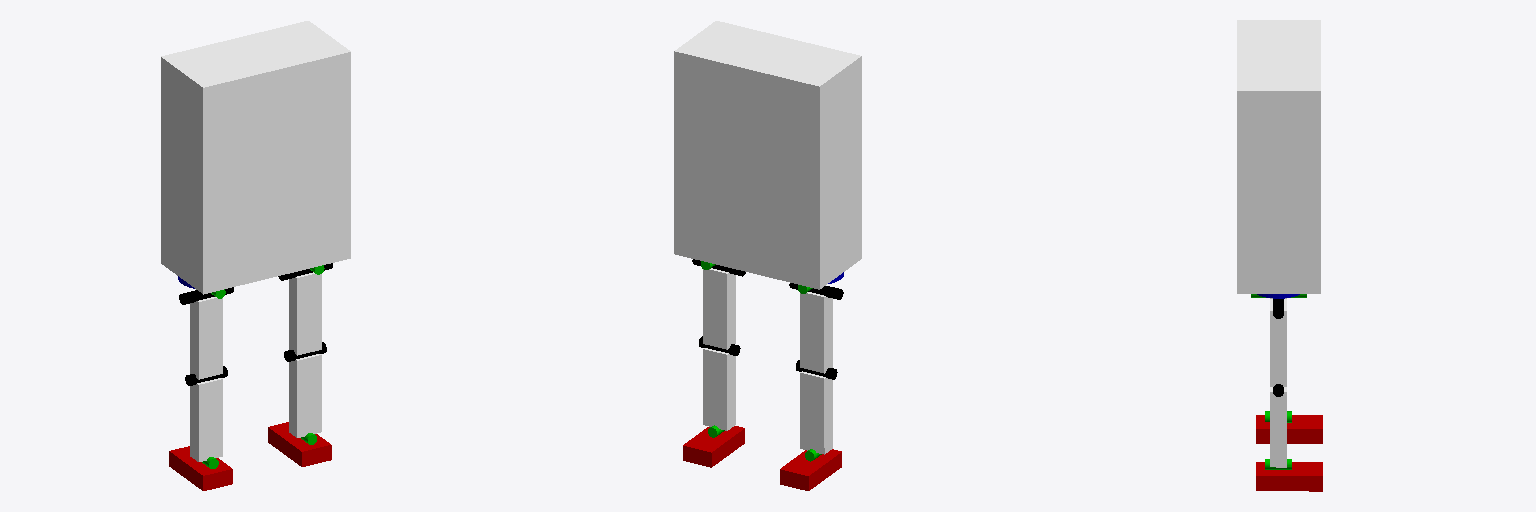
URDF robot description (Custom_Upper_Body):
<?xml version="1.0" encoding="utf-8"?>
<robot name="Custom_Upper_Body">


	  <material name="blue">
	    	<color rgba="0 0 0.8 1"/>
	  </material>
	  <material name="black">
	    	<color rgba="0 0 0 1"/>
	  </material>
	  <material name="white">
	    	<color rgba="1 1 1 1"/>
	  </material>
  	<material name="red">
    		<color rgba="0.8 0 0 1"/>
  	</material>
  	<material name="green">
    		<color rgba="0 0.8 0 1"/>
  	</material>
  	
  	
	<link name="base">
		<mass value="0.3"/>
		<inertial>
			<origin xyz="0 0 0" rpy="0 0 0"></origin>
			<mass value="0.3"></mass>
			<inertia ixx="0.000444379589701896" ixy="0" ixz="0" iyy="0.00048561348802354" iyz="0" izz="0.000421911604661064"></inertia>
		</inertial>
		<visual>
			<origin xyz="0 0 0" rpy="0 0 0"></origin>
			<geometry>
				<box size="0.3 0.15 0.4"/>
			</geometry>
			<material name="white"/>
		</visual>
		<collision>
			<origin xyz="0 0 0" rpy="0 0 0"></origin>
			<geometry>
				<box size="0.3 0.15 0.4"/>
			</geometry>
		</collision>
	</link>
	
	<joint name="z_base_to_r_hip_yaw" type="revolute">
	    <parent link="base"/>
	    <child link="r_hip_yaw"/>
	    <origin xyz="0.1 0. -0.205" rpy="0 0 0"/>
	    <axis xyz="0 0 -1"></axis>
	    <limit effort="3.1" lower="-1.57" upper="1.57" velocity="7.0"></limit>
  	</joint>
	
	<link name="r_hip_yaw">
		<inertial>
			<origin xyz="0 0 0" rpy="0 0 0"></origin>
			<mass value="0.1"></mass>
			<inertia ixx="0.000444379589701896" ixy="0" ixz="0" iyy="0.00048561348802354" iyz="0" izz="0.000421911604661064"></inertia>
		</inertial>
		<visual>
			<origin xyz="0 0 0" rpy="0 0 0"></origin>
			<geometry>
				<cylinder length="0.01" radius="0.05"/>
			</geometry>
			<material name="blue"/>
		</visual>
		<collision>
			<origin xyz="0 0 0" rpy="0 0 0"></origin>
			<geometry>
				<cylinder length="0.1" radius="0.01"/>
			</geometry>
		</collision>
	</link> 
	
	<joint name="r_hip_yaw_to_pitch" type="revolute">
	    <parent link="r_hip_yaw"/>
	    <child link="r_hip_pitch"/>
	    <origin xyz="0. 0. -0.015" rpy="1.57 0 0"/>
	    <axis xyz="0 0 1"></axis>
	    <limit effort="3.1" lower="-1.57" upper="1.57" velocity="7.0"></limit>
  	</joint>
	
	<link name="r_hip_pitch">
		<inertial>
			<origin xyz="0 0 0" rpy="0 0 0"></origin>
			<mass value="0.1"></mass>
			<inertia ixx="0.000444379589701896" ixy="0" ixz="0" iyy="0.00048561348802354" iyz="0" izz="0.000421911604661064"></inertia>
		</inertial>
		<visual>
			<origin xyz="0 0 0" rpy="0 0 0"></origin>
			<geometry>
				<cylinder length="0.1" radius="0.01"/>
			</geometry>
			<material name="green"/>
		</visual>
		<collision>
			<origin xyz="0 0 0" rpy="0 0 0"></origin>
			<geometry>
				<cylinder length="0.1" radius="0.01"/>
			</geometry>
		</collision>
	</link>
	
	<joint name="r_hip_pitch_to_roll" type="revolute">
	    <parent link="r_hip_pitch"/>
	    <child link="r_hip_roll"/>
	    <origin xyz="0. -0.02 0." rpy="0 1.57 0"/>
	    <axis xyz="0 0 1"></axis>
	    <limit effort="3.1" lower="-1.57" upper="1.57" velocity="7.0"></limit>
  	</joint>
	
	<link name="r_hip_roll">
		<inertial>
			<origin xyz="0 0 0" rpy="0 0 0"></origin>
			<mass value="0.1"></mass>
			<inertia ixx="0.000444379589701896" ixy="0" ixz="0" iyy="0.00048561348802354" iyz="0" izz="0.000421911604661064"></inertia>
		</inertial>
		<visual>
			<origin xyz="0 0 0" rpy="0 0 0"></origin>
			<geometry>
				<cylinder length="0.1" radius="0.01"/>
			</geometry>
			<material name="black"/>
		</visual>
		<collision>
			<origin xyz="0 0 0" rpy="0 0 0"></origin>
			<geometry>
				<cylinder length="0.1" radius="0.01"/>
			</geometry>
		</collision>
	</link>
	
	<joint name="r_hip_roll_to_upper_leg" type="fixed">
	    <parent link="r_hip_roll"/>
	    <child link="r_upper_leg"/>
	    <origin xyz="0 -0.08 0" rpy="0 0 0"/>
	    <axis xyz="0 0 1"></axis>
  	</joint>
	
	<link name="r_upper_leg">
		<inertial>
			<origin xyz="0 0 0" rpy="0 0 0"></origin>
			<mass value="0.1"></mass>
			<inertia ixx="0.000444379589701896" ixy="0" ixz="0" iyy="0.00048561348802354" iyz="0" izz="0.000421911604661064"></inertia>
		</inertial>
		<visual>
			<origin xyz="0 0 0" rpy="0 0 0"></origin>
			<geometry>
				<box size="0.03 0.15 0.05"/>
			</geometry>
			<material name="white"/>
		</visual>
		<collision>
			<origin xyz="0 0 0" rpy="0 0 0"></origin>
			<geometry>
				<box size="0.03 0.1 0.05"/>
			</geometry>
		</collision>
	</link>
	
	
	<joint name="r_upper_leg_to_knee" type="revolute">
	    <parent link="r_upper_leg"/>
	    <child link="r_knee"/>
	    <origin xyz="0 -0.08 0" rpy="0 0 0"/>
	    <axis xyz="0 0 -1"></axis>
	    <limit effort="3.1" lower="-.57" upper="1.57" velocity="7.0"></limit>
  	</joint>
	
	<link name="r_knee">
		<inertial>
			<origin xyz="0 0 0" rpy="0 0 0"></origin>
			<mass value="0.1"></mass>
			<inertia ixx="0.000444379589701896" ixy="0" ixz="0" iyy="0.00048561348802354" iyz="0" izz="0.000421911604661064"></inertia>
		</inertial>
		<visual>
			<origin xyz="0 0 0" rpy="0 0 0"></origin>
			<geometry>
				<cylinder length="0.075" radius="0.01"/>
			</geometry>
			<material name="black"/>
		</visual>
		<collision>
			<origin xyz="0 0 0" rpy="0 0 0"></origin>
			<geometry>
				<cylinder length="0.075" radius="0.01"/>
			</geometry>
		</collision>
	</link>
	
	<joint name="r_knee_to_lower_leg" type="fixed">
	    <parent link="r_knee"/>
	    <child link="r_lower_leg"/>
	    <origin xyz="0 -0.08 0" rpy="0 0 0"/>
	    <axis xyz="0 0 1"></axis>
  	</joint>
	
	<link name="r_lower_leg">
		<inertial>
			<origin xyz="0 0 0" rpy="0 0 0"></origin>
			<mass value="0.1"></mass>
			<inertia ixx="0.000444379589701896" ixy="0" ixz="0" iyy="0.00048561348802354" iyz="0" izz="0.000421911604661064"></inertia>
		</inertial>
		<visual>
			<origin xyz="0 0 0" rpy="0 0 0"></origin>
			<geometry>
				<box size="0.03 0.15 0.05"/>
			</geometry>
			<material name="white"/>
		</visual>
		<collision>
			<origin xyz="0 0 0" rpy="0 0 0"></origin>
			<geometry>
				<box size="0.03 0.1 0.05"/>
			</geometry>
		</collision>
	</link>
	
	<joint name="r_lower_leg_to_ankle" type="revolute">
	    <parent link="r_lower_leg"/>
	    <child link="r_ankle"/>
	    <origin xyz="0 -0.08 0" rpy="0 1.57 0"/>
	    <axis xyz="0 0 -1"></axis>
	    <limit effort="3.1" lower="-.57" upper="1.57" velocity="7.0"></limit>
  	</joint>
	
	<link name="r_ankle">
		<inertial>
			<origin xyz="0 0 0" rpy="0 0 0"></origin>
			<mass value="0.1"></mass>
			<inertia ixx="0.000444379589701896" ixy="0" ixz="0" iyy="0.00048561348802354" iyz="0" izz="0.000421911604661064"></inertia>
		</inertial>
		<visual>
			<origin xyz="0 0 0" rpy="0 0 0"></origin>
			<geometry>
				<cylinder length="0.05" radius="0.01"/>
			</geometry>
			<material name="green"/>
		</visual>
		<collision>
			<origin xyz="0 0 0" rpy="0 0 0"></origin>
			<geometry>
				<cylinder length="0.05" radius="0.01"/>
			</geometry>
		</collision>
	</link>
	
	
	<joint name="r_ankle_to_foot" type="fixed">
	    <parent link="r_ankle"/>
	    <child link="r_foot"/>
	    <origin xyz="0 -0.025 0.02" rpy="0 0 0"/>
	    <axis xyz="0 0 1"></axis>
  	</joint>
	
	<link name="r_foot">
		<inertial>
			<origin xyz="0 0 0" rpy="0 0 0"></origin>
			<mass value="0.1"></mass>
			<inertia ixx="0.000444379589701896" ixy="0" ixz="0" iyy="0.00048561348802354" iyz="0" izz="0.000421911604661064"></inertia>
		</inertial>
		<visual>
			<origin xyz="0 0 0" rpy="0 0 0"></origin>
			<geometry>
				<box size="0.06 0.03 0.12"/>
			</geometry>
			<material name="red"/>
		</visual>
		<collision>
			<origin xyz="0 0 0" rpy="0 0 0"></origin>
			<geometry>
				<box size="0.06 0.03 0.1"/>
			</geometry>
		</collision>
	</link>
	
	<joint name="r_foot_end_effector" type="fixed">
	    <parent link="r_foot"/>
	    <child link="r_foot_ee_link"/>
	    <origin xyz="0 0 0" rpy="0 0 0"/>
	    <axis xyz="0 0 1"></axis>
  	</joint>
  	
  	<link name="r_foot_ee_link">
        <inertial>
          <mass value="0.001" />
          <inertia ixx="0.0001" iyy="0.0001" izz="0.0001" ixy="0" ixz="0" iyz="0" />
        </inertial>
      </link>
	
	
	
	<joint name="z_base_to_l_hip_yaw" type="revolute">
	    <parent link="base"/>
	    <child link="l_hip_yaw"/>
	    <origin xyz="-0.1 0. -0.205" rpy="0 0 0"/>
	    <axis xyz="0 0 -1"></axis>
	    <limit effort="3.1" lower="-1.57" upper="1.57" velocity="7.0"></limit>
  	</joint>
	
	<link name="l_hip_yaw">
		<inertial>
			<origin xyz="0 0 0" rpy="0 0 0"></origin>
			<mass value="0.1"></mass>
			<inertia ixx="0.000444379589701896" ixy="0" ixz="0" iyy="0.00048561348802354" iyz="0" izz="0.000421911604661064"></inertia>
		</inertial>
		<visual>
			<origin xyz="0 0 0" rpy="0 0 0"></origin>
			<geometry>
				<cylinder length="0.01" radius="0.05"/>
			</geometry>
			<material name="blue"/>
		</visual>
		<collision>
			<origin xyz="0 0 0" rpy="0 0 0"></origin>
			<geometry>
				<cylinder length="0.1" radius="0.01"/>
			</geometry>
		</collision>
	</link> 
	
	<joint name="l_hip_yaw_to_pitch" type="revolute">
	    <parent link="l_hip_yaw"/>
	    <child link="l_hip_pitch"/>
	    <origin xyz="0. 0. -0.015" rpy="1.57 0 0"/>
	    <axis xyz="0 0 1"></axis>
	    <limit effort="3.1" lower="-1.57" upper="1.57" velocity="7.0"></limit>
  	</joint>
	
	<link name="l_hip_pitch">
		<inertial>
			<origin xyz="0 0 0" rpy="0 0 0"></origin>
			<mass value="0.1"></mass>
			<inertia ixx="0.000444379589701896" ixy="0" ixz="0" iyy="0.00048561348802354" iyz="0" izz="0.000421911604661064"></inertia>
		</inertial>
		<visual>
			<origin xyz="0 0 0" rpy="0 0 0"></origin>
			<geometry>
				<cylinder length="0.1" radius="0.01"/>
			</geometry>
			<material name="green"/>
		</visual>
		<collision>
			<origin xyz="0 0 0" rpy="0 0 0"></origin>
			<geometry>
				<cylinder length="0.1" radius="0.01"/>
			</geometry>
		</collision>
	</link>
	
	<joint name="l_hip_pitch_to_roll" type="revolute">
	    <parent link="l_hip_pitch"/>
	    <child link="l_hip_roll"/>
	    <origin xyz="0. -0.02 0." rpy="0 1.57 0"/>
	    <axis xyz="0 0 1"></axis>
	    <limit effort="3.1" lower="-1.57" upper="1.57" velocity="7.0"></limit>
  	</joint>
	
	<link name="l_hip_roll">
		<inertial>
			<origin xyz="0 0 0" rpy="0 0 0"></origin>
			<mass value="0.1"></mass>
			<inertia ixx="0.000444379589701896" ixy="0" ixz="0" iyy="0.00048561348802354" iyz="0" izz="0.000421911604661064"></inertia>
		</inertial>
		<visual>
			<origin xyz="0 0 0" rpy="0 0 0"></origin>
			<geometry>
				<cylinder length="0.1" radius="0.01"/>
			</geometry>
			<material name="black"/>
		</visual>
		<collision>
			<origin xyz="0 0 0" rpy="0 0 0"></origin>
			<geometry>
				<cylinder length="0.1" radius="0.01"/>
			</geometry>
		</collision>
	</link>
	
	<joint name="l_hip_roll_to_upper_leg" type="fixed">
	    <parent link="l_hip_roll"/>
	    <child link="l_upper_leg"/>
	    <origin xyz="0 -0.08 0" rpy="0 0 0"/>
	    <axis xyz="0 0 1"></axis>
  	</joint>
	
	<link name="l_upper_leg">
		<inertial>
			<origin xyz="0 0 0" rpy="0 0 0"></origin>
			<mass value="0.1"></mass>
			<inertia ixx="0.000444379589701896" ixy="0" ixz="0" iyy="0.00048561348802354" iyz="0" izz="0.000421911604661064"></inertia>
		</inertial>
		<visual>
			<origin xyz="0 0 0" rpy="0 0 0"></origin>
			<geometry>
				<box size="0.03 0.15 0.05"/>
			</geometry>
			<material name="white"/>
		</visual>
		<collision>
			<origin xyz="0 0 0" rpy="0 0 0"></origin>
			<geometry>
				<box size="0.03 0.1 0.05"/>
			</geometry>
		</collision>
	</link>
	
	
	<joint name="l_upper_leg_to_knee" type="revolute">
	    <parent link="l_upper_leg"/>
	    <child link="l_knee"/>
	    <origin xyz="0 -0.08 0" rpy="0 0 0"/>
	    <axis xyz="0 0 -1"></axis>
	    <limit effort="3.1" lower="-1.57" upper="1.57" velocity="7.0"></limit>
  	</joint>
	
	<link name="l_knee">
		<inertial>
			<origin xyz="0 0 0" rpy="0 0 0"></origin>
			<mass value="0.1"></mass>
			<inertia ixx="0.000444379589701896" ixy="0" ixz="0" iyy="0.00048561348802354" iyz="0" izz="0.000421911604661064"></inertia>
		</inertial>
		<visual>
			<origin xyz="0 0 0" rpy="0 0 0"></origin>
			<geometry>
				<cylinder length="0.075" radius="0.01"/>
			</geometry>
			<material name="black"/>
		</visual>
		<collision>
			<origin xyz="0 0 0" rpy="0 0 0"></origin>
			<geometry>
				<cylinder length="0.075" radius="0.01"/>
			</geometry>
		</collision>
	</link>
	
	<joint name="l_knee_to_lower_leg" type="fixed">
	    <parent link="l_knee"/>
	    <child link="l_lower_leg"/>
	    <origin xyz="0 -0.08 0" rpy="0 0 0"/>
	    <axis xyz="0 0 1"></axis>
  	</joint>
	
	<link name="l_lower_leg">
		<inertial>
			<origin xyz="0 0 0" rpy="0 0 0"></origin>
			<mass value="0.1"></mass>
			<inertia ixx="0.000444379589701896" ixy="0" ixz="0" iyy="0.00048561348802354" iyz="0" izz="0.000421911604661064"></inertia>
		</inertial>
		<visual>
			<origin xyz="0 0 0" rpy="0 0 0"></origin>
			<geometry>
				<box size="0.03 0.15 0.05"/>
			</geometry>
			<material name="white"/>
		</visual>
		<collision>
			<origin xyz="0 0 0" rpy="0 0 0"></origin>
			<geometry>
				<box size="0.03 0.1 0.05"/>
			</geometry>
		</collision>
	</link>
	
	<joint name="l_lower_leg_to_ankle" type="revolute">
	    <parent link="l_lower_leg"/>
	    <child link="l_ankle"/>
	    <origin xyz="0 -0.08 0" rpy="0 1.57 0"/>
	    <axis xyz="0 0 -1"></axis>
	    <limit effort="3.1" lower="-1.57" upper="1.57" velocity="7.0"></limit>
  	</joint>
	
	<link name="l_ankle">
		<inertial>
			<origin xyz="0 0 0" rpy="0 0 0"></origin>
			<mass value="0.1"></mass>
			<inertia ixx="0.000444379589701896" ixy="0" ixz="0" iyy="0.00048561348802354" iyz="0" izz="0.000421911604661064"></inertia>
		</inertial>
		<visual>
			<origin xyz="0 0 0" rpy="0 0 0"></origin>
			<geometry>
				<cylinder length="0.05" radius="0.01"/>
			</geometry>
			<material name="green"/>
		</visual>
		<collision>
			<origin xyz="0 0 0" rpy="0 0 0"></origin>
			<geometry>
				<cylinder length="0.05" radius="0.01"/>
			</geometry>
		</collision>
	</link>
	
	
	<joint name="l_ankle_to_foot" type="fixed">
	    <parent link="l_ankle"/>
	    <child link="l_foot"/>
	    <origin xyz="0 -0.025 0.02" rpy="0 0 0"/>
	    <axis xyz="0 0 1"></axis>
  	</joint>
	
	<link name="l_foot">
		<inertial>
			<origin xyz="0 0 0" rpy="0 0 0"></origin>
			<mass value="0.1"></mass>
			<inertia ixx="0.000444379589701896" ixy="0" ixz="0" iyy="0.00048561348802354" iyz="0" izz="0.000421911604661064"></inertia>
		</inertial>
		<visual>
			<origin xyz="0 0 0" rpy="0 0 0"></origin>
			<geometry>
				<box size="0.06 0.03 0.12"/>
			</geometry>
			<material name="red"/>
		</visual>
		<collision>
			<origin xyz="0 0 0" rpy="0 0 0"></origin>
			<geometry>
				<box size="0.06 0.03 0.1"/>
			</geometry>
		</collision>
	</link>
	
	<joint name="l_foot_end_effector" type="fixed">
	    <parent link="l_foot"/>
	    <child link="l_foot_ee_link"/>
	    <origin xyz="0 0 0" rpy="0 0 0"/>
	    <axis xyz="0 0 1"></axis>
  	</joint>
  	
  	<link name="l_foot_ee_link">
        <inertial>
          <mass value="0.001" />
          <inertia ixx="0.0001" iyy="0.0001" izz="0.0001" ixy="0" ixz="0" iyz="0" />
        </inertial>
      </link>
	
	
	
	
	
</robot>

--- What the picture shows (computed from the rendered views, not written in the file) ---
3 views of the same robot in one strip: view 1: azimuth 30°, elevation 25°; view 2: azimuth 150°, elevation 25°; view 3: azimuth 270°, elevation 25° (orthographic).
Robot: Custom_Upper_Body — 19 links, 18 joints (10 revolute, 8 fixed); root link base; default pose: all joints at 0.
Visible links, largest first — view 1: base, r_lower_leg, l_lower_leg, r_upper_leg, l_upper_leg, r_foot, l_foot; view 2: base, l_lower_leg, r_lower_leg, l_upper_leg, r_upper_leg, l_foot, r_foot; view 3: base, r_foot, l_foot, r_lower_leg, r_upper_leg.
Link boxes in pixels (<box>): base: <box>161,21,350,294</box>; r_lower_leg: <box>289,354,321,437</box>; l_lower_leg: <box>190,378,222,461</box>; r_upper_leg: <box>289,272,321,355</box>; l_upper_leg: <box>190,297,222,379</box>; r_foot: <box>268,422,331,466</box>; l_foot: <box>169,446,232,490</box>; base: <box>674,21,861,289</box>; l_lower_leg: <box>800,371,832,454</box>; r_lower_leg: <box>703,348,735,430</box>; l_upper_leg: <box>800,292,832,373</box>; r_upper_leg: <box>703,268,735,349</box>; l_foot: <box>780,449,841,490</box>; r_foot: <box>683,426,744,467</box>; base: <box>1237,20,1320,293</box>; r_foot: <box>1256,462,1322,491</box>; l_foot: <box>1256,415,1322,443</box>; r_lower_leg: <box>1270,387,1286,467</box>; r_upper_leg: <box>1270,299,1286,386</box>.
Size in the robot's own frame: 0.3 by 0.1548 by 0.8001 metres.
Geometry: primitives only (box / cylinder / sphere), no mesh files.